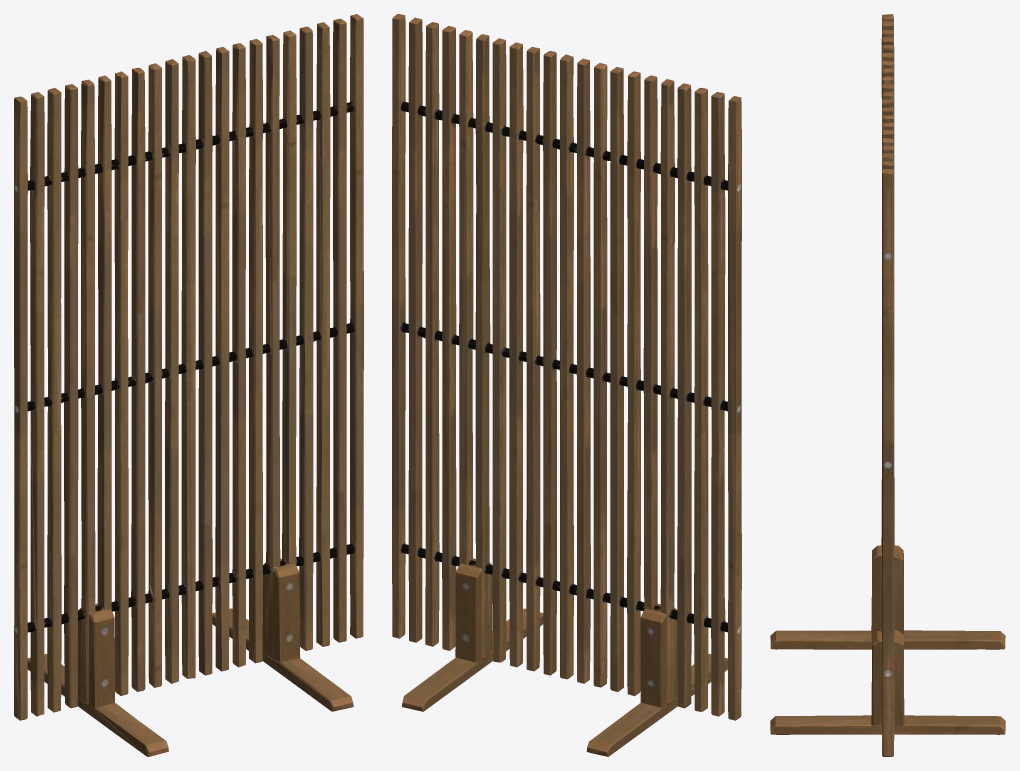
The picture shows the model from 3 angles, left to right: view 1: azimuth 30°, elevation 25°; view 2: azimuth 150°, elevation 25°; view 3: azimuth 270°, elevation 25°; orthographic projection. The views are drawn at different scales.
Parts seen in each view (by area): view 1: ProcessedGeometry; view 2: ProcessedGeometry; view 3: ProcessedGeometry.
Boxes of the visible parts, x1=… form: ProcessedGeometry: x1=14, y1=14, x2=363, y2=756; ProcessedGeometry: x1=392, y1=14, x2=741, y2=756; ProcessedGeometry: x1=770, y1=14, x2=1005, y2=756.
Bounding box in the file's own units: 0.8001 × 1.4 × 0.4999.
Materials: 1 (1 with a texture image).
